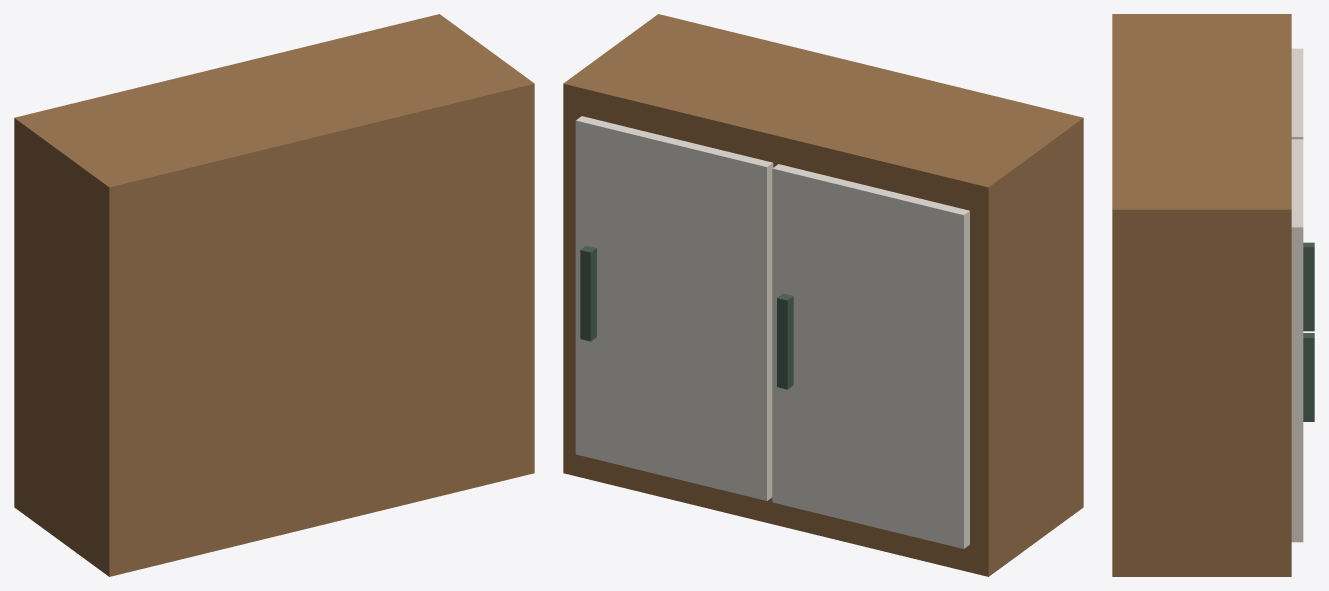
3 views of the same model, side by side, from view 1: azimuth 30°, elevation 25°; view 2: azimuth 150°, elevation 25°; view 3: azimuth 270°, elevation 25° (orthographic). The views are drawn at different scales.
Parts seen in each view (by area): view 1: body; view 2: body, door-1, door-0, handle-0, handle-1; view 3: body, door-1, door-0, handle-0, handle-1.
Part boxes in pixels (x1,y1,x2,y2): body: [14, 14, 534, 576]; body: [563, 14, 1083, 576]; door-1: [575, 116, 773, 500]; door-0: [772, 164, 969, 548]; handle-0: [777, 293, 793, 389]; handle-1: [580, 245, 596, 341]; body: [1112, 14, 1291, 576]; door-1: [1291, 139, 1303, 542]; door-0: [1291, 48, 1303, 139]; handle-0: [1303, 242, 1314, 331]; handle-1: [1303, 333, 1314, 421].
Bounding box in the file's own units: 0.8 × 0.7 × 0.35.
